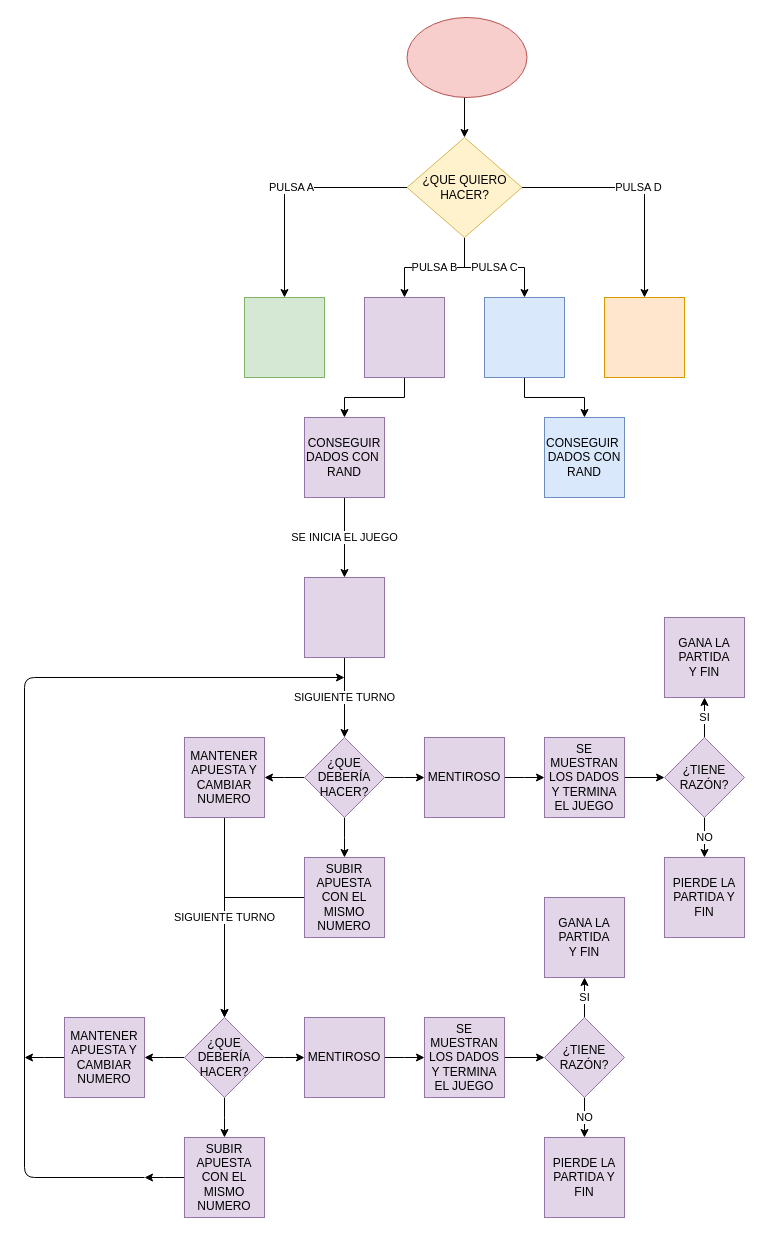
The diagram is 762 pixels wide and 1235 high, and some of its shapes have lost their labels. The shapes that lost their labels are listed below. From the top down, each one's centre as x and y in pixels, then its label:
(x=466, y=57): DADO MENTIROSO
(x=284, y=337): MOSTRAR REGLAS
(x=404, y=337): JUGADOR CONTRA JUGADOR
(x=524, y=337): JUGADOR CONTRA IA
(x=644, y=337): SALIR DEL MENÚ
(x=344, y=617): SE REALIZA LA PRIMERA APUESTA
